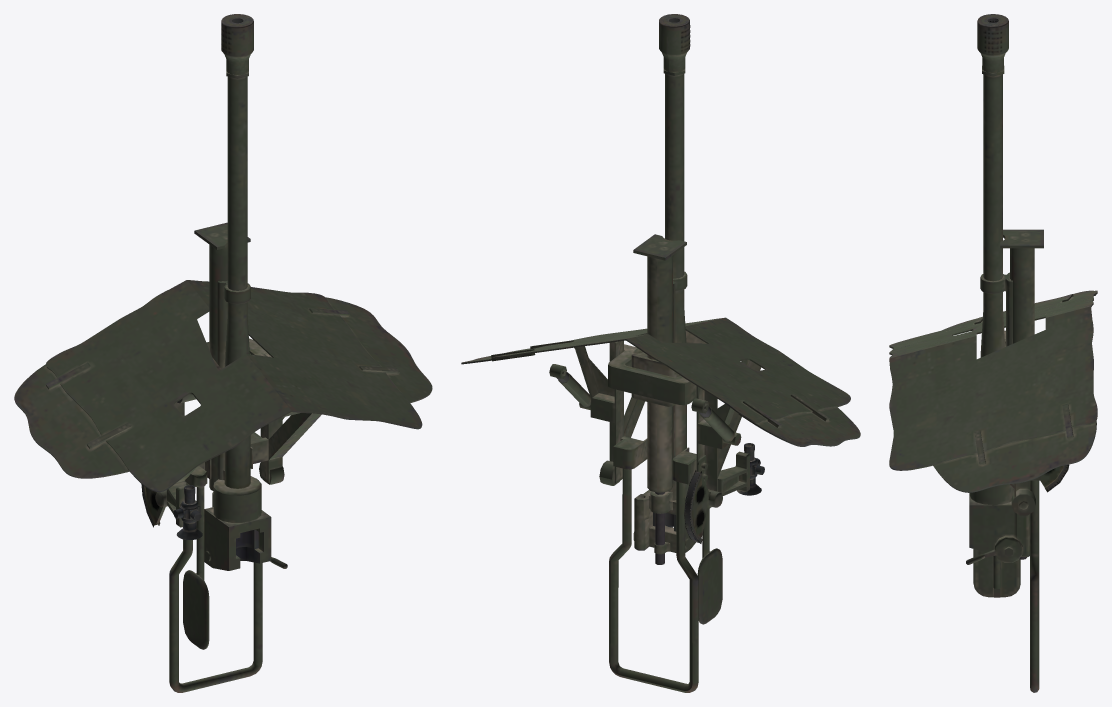
File: Gun_02.glb
The picture shows the model from 3 angles, left to right: view 1: azimuth 30°, elevation 25°; view 2: azimuth 150°, elevation 25°; view 3: azimuth 270°, elevation 25°; orthographic projection. The views are drawn at different scales.
Parts seen in each view (by area): view 1: set_0_group_0; view 2: set_0_group_0; view 3: set_0_group_0.
Part boxes in pixels (left/top/right/bottom): set_0_group_0: left=14, top=14, right=432, bottom=692; set_0_group_0: left=461, top=14, right=860, bottom=692; set_0_group_0: left=889, top=14, right=1097, bottom=692.
Size of the model in its own units: 1.33 by 2.32 by 0.6668.
1 material, 1 textured.
